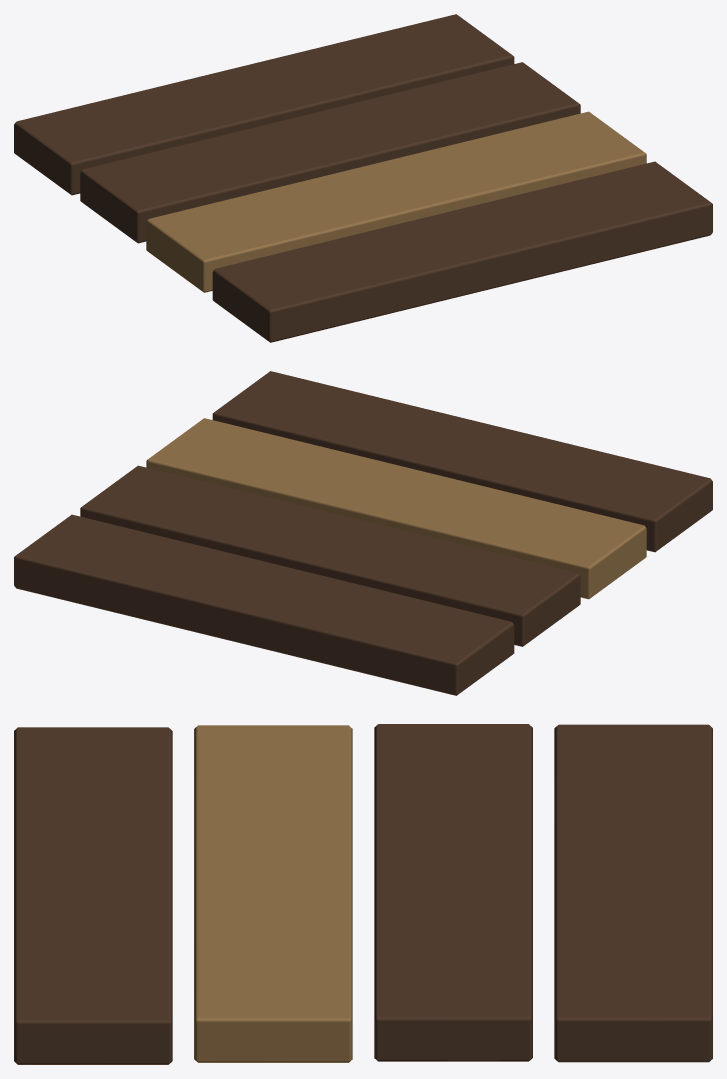
File: village-planks-a.68043c31.glb
The picture shows the model from 3 angles, top to bottom: view 1: azimuth 30°, elevation 25°; view 2: azimuth 150°, elevation 25°; view 3: azimuth 270°, elevation 25°; orthographic projection. The views are drawn at different scales.
Visible parts, largest first — view 1: body; view 2: body; view 3: body.
Boxes of the visible parts, left/top/right/bottom form: body: left=14, top=14, right=712, bottom=342; body: left=14, top=371, right=712, bottom=695; body: left=14, top=724, right=712, bottom=1064.
Size of the model in its own units: 0.97 by 0.075 by 0.97.
